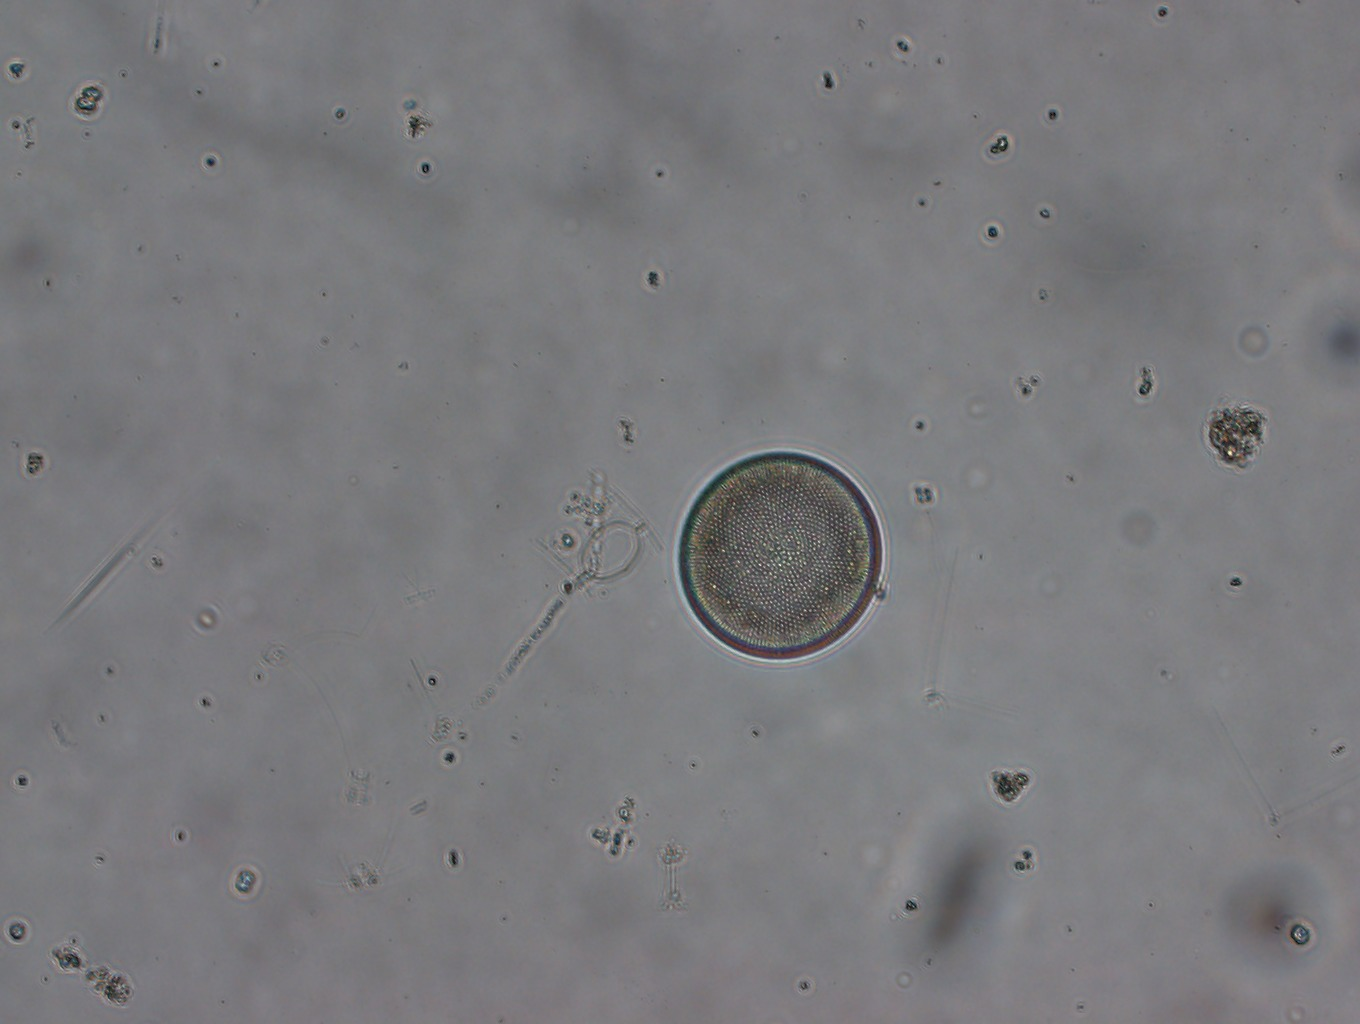coscinodiscus: (671, 441, 894, 673)
